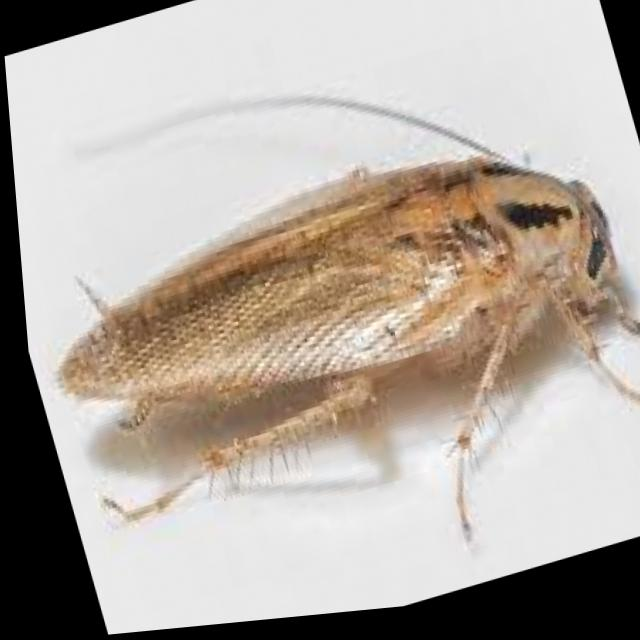Cockroach: (3, 0, 640, 640)
